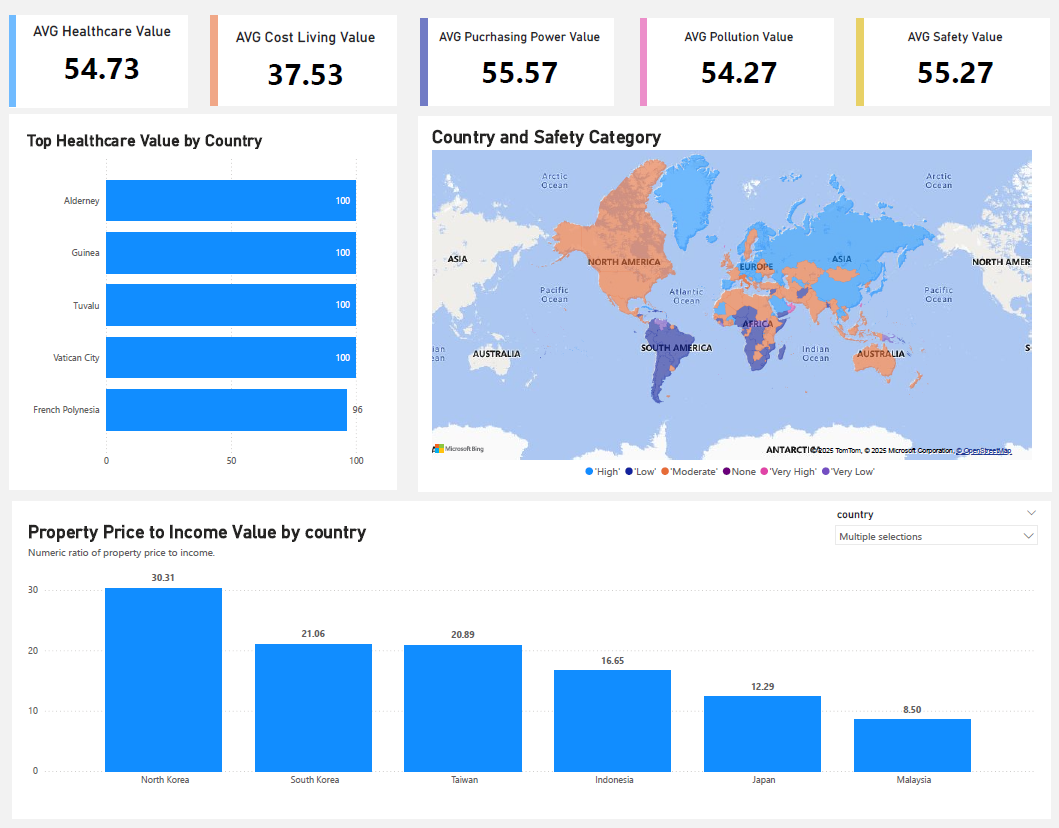

Layout of this report page (visuals, bound fields, positions):
{"tool":"powerbi","page":{"name":"Page 1","canvas":[1440,1130],"ordinal":0},"visuals":[{"type":"group","id":"g1","title":"Group 1","box":[33.4,29.4,236.6,121.7],"z":0},{"type":"shape","box":[33.5,29.4,236.5,121.7],"z":0,"group":"g1"},{"type":"shape","box":[300.6,29.4,247.6,119.9],"z":0,"group":"g2"},{"type":"shape","box":[872.7,31.5,257.2,117.5],"z":0,"group":"g4"},{"type":"shape","box":[581.4,31.7,257.2,117.5],"z":0,"group":"g3"},{"type":"shape","box":[1161.1,32,257.2,117.5],"z":0,"group":"g5"},{"type":"shape","box":[37,676.3,1381.8,422],"z":0,"group":"g7"},{"type":"group","id":"g2","title":"Group 1","box":[300.5,29.4,248.1,119.9],"z":1000},{"type":"card","title":"AVG Healthcare Value","fields":{"Values":["Avg(Quality_of_Life.Health Care Value)"]},"box":[51,38.2,211.2,103.8],"z":1000,"group":"g1"},{"type":"card","title":"AVG Cost Living Value","fields":{"Values":["Avg(Quality_of_Life.Health Care Value)"]},"box":[317.3,46.2,218.7,92.5],"z":1000,"group":"g2"},{"type":"card","title":"AVG Pollution Value","fields":{"Values":["Quality_of_Life.AVG_Purchasing_Power_Value"]},"box":[889.3,46.2,229.2,96.7],"z":1000,"group":"g4"},{"type":"card","title":"AVG Pucrhasing Power Value","fields":{"Values":["Quality_of_Life.AVG_Purchasing_Power_Value"]},"box":[598,46.4,229.2,96.7],"z":1000,"group":"g3"},{"type":"card","title":"AVG Safety Value","fields":{"Values":["Quality_of_Life.AVG_Purchasing_Power_Value"]},"box":[1177.7,46.7,229.2,96.7],"z":1000,"group":"g5"},{"type":"shape","box":[577.5,163.5,842.2,499.2],"z":1000,"group":"g8"},{"type":"clusteredColumnChart","title":"Property Price to Income Value by country","fields":{"Category":["Quality_of_Life.country"],"Y":["Sum(Quality_of_Life.Property Price to Income Value)"]},"box":[52.8,702.1,1349.6,362.7],"z":1000,"group":"g7"},{"type":"shape","box":[300.5,29.6,8.8,119.1],"z":2000,"group":"g2"},{"type":"shape","box":[33.4,29.7,8.4,120.8],"z":2000,"group":"g1"},{"type":"group","id":"g3","title":"Group 1","box":[581.2,31.7,256.6,117.8],"z":2000},{"type":"shape","box":[872.5,31.7,9.1,116.7],"z":2000,"group":"g4"},{"type":"shape","box":[581.2,31.9,9.1,116.7],"z":2000,"group":"g3"},{"type":"shape","box":[1160.9,32.2,9.1,116.7],"z":2000,"group":"g5"},{"type":"shape","box":[33.4,161.1,515.8,499.2],"z":2000,"group":"g6"},{"type":"slicer","fields":{"Values":["Quality_of_Life.country"]},"box":[1121.9,679.3,291,63.9],"z":2000,"group":"g7"},{"type":"group","id":"g4","title":"Group 1","box":[872.5,31.5,256.6,117.8],"z":3000},{"type":"group","id":"g5","title":"Group 1","box":[1160.9,32,256.3,115.8],"z":4000},{"type":"group","id":"g6","title":"Group 2","box":[33.4,161.1,515.8,499.2],"z":5000},{"type":"clusteredBarChart","title":"Top Healthcare Value by Country","fields":{"Category":["Quality_of_Life.country"],"Y":["Sum(Quality_of_Life.Health Care Value)"]},"box":[52.3,182.4,482.6,456.6],"z":6000,"group":"g6"},{"type":"group","id":"g7","title":"Group 3","box":[37,676.3,1381.8,422],"z":6000},{"type":"group","id":"g8","title":"Group 4","box":[577.5,163.5,842.2,499.2],"z":7000},{"type":"filledMap","title":"Country and Safety Category","fields":{"Category":["Quality_of_Life.country"],"Series":["Quality_of_Life.Safety Category"]},"box":[590.2,176.1,808.3,478.3],"z":7000,"group":"g8"}]}

Visuals, with their boxes in screenshot pixels (x1, y1, x2, y2), scaled from the page's 1440x1130 canvas onto the 1059x828 screenshot:
"Group 1" group: l=25, t=22, r=199, b=111
shape: l=25, t=22, r=199, b=111
shape: l=221, t=22, r=403, b=109
shape: l=642, t=23, r=831, b=109
shape: l=428, t=23, r=617, b=109
shape: l=854, t=23, r=1043, b=110
shape: l=27, t=496, r=1043, b=805
"Group 1" group: l=221, t=22, r=403, b=109
"AVG Healthcare Value" card: l=38, t=28, r=193, b=104
"AVG Cost Living Value" card: l=233, t=34, r=394, b=102
"AVG Pollution Value" card: l=654, t=34, r=823, b=105
"AVG Pucrhasing Power Value" card: l=440, t=34, r=608, b=105
"AVG Safety Value" card: l=866, t=34, r=1035, b=105
shape: l=425, t=120, r=1044, b=486
"Property Price to Income Value by country" clusteredColumnChart: l=39, t=514, r=1031, b=780
shape: l=221, t=22, r=227, b=109
shape: l=25, t=22, r=31, b=110
"Group 1" group: l=427, t=23, r=616, b=110
shape: l=642, t=23, r=648, b=109
shape: l=427, t=23, r=434, b=109
shape: l=854, t=24, r=860, b=109
shape: l=25, t=118, r=404, b=484
slicer - Quality_of_Life.country: l=825, t=498, r=1039, b=545
"Group 1" group: l=642, t=23, r=830, b=109
"Group 1" group: l=854, t=23, r=1042, b=108
"Group 2" group: l=25, t=118, r=404, b=484
"Top Healthcare Value by Country" clusteredBarChart: l=38, t=134, r=393, b=468
"Group 3" group: l=27, t=496, r=1043, b=805
"Group 4" group: l=425, t=120, r=1044, b=486
"Country and Safety Category" filledMap: l=434, t=129, r=1028, b=480
